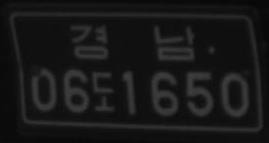0: (220, 71, 250, 117), (30, 66, 58, 112)
1: (118, 69, 140, 116)
5: (184, 70, 215, 117)
6: (149, 70, 179, 117), (62, 68, 89, 115)
경남_D: (69, 22, 196, 62)
도: (90, 69, 117, 112)
